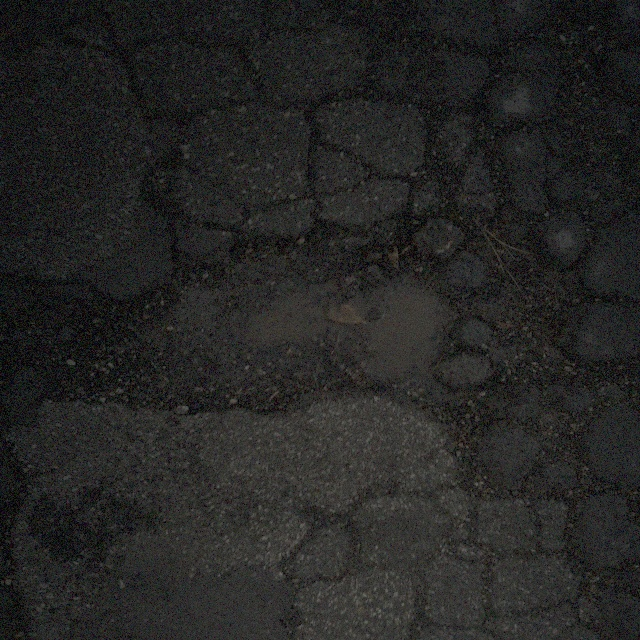pothole: (73, 212, 455, 444)
